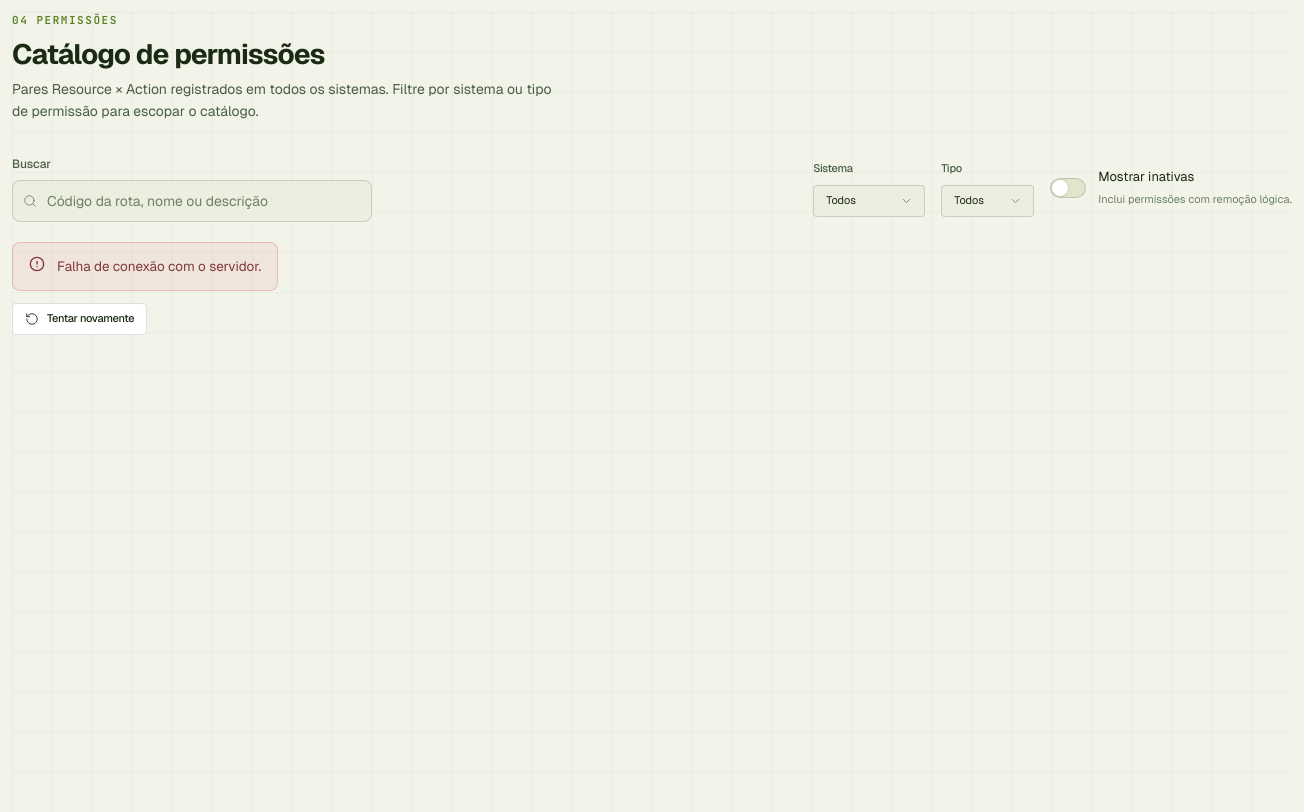
Test: PermissionsListShellPage — erro de rede › exibe Alert + botão retry; clicar dispara nova request
This screenshot has width=1304, height=812.
Expected: the text "Falha de conexão com o servidor." is shown, [57,256,261,277]
Click the button with test id "permissions-retry".
click(80, 319)  # box [12,303,147,335]
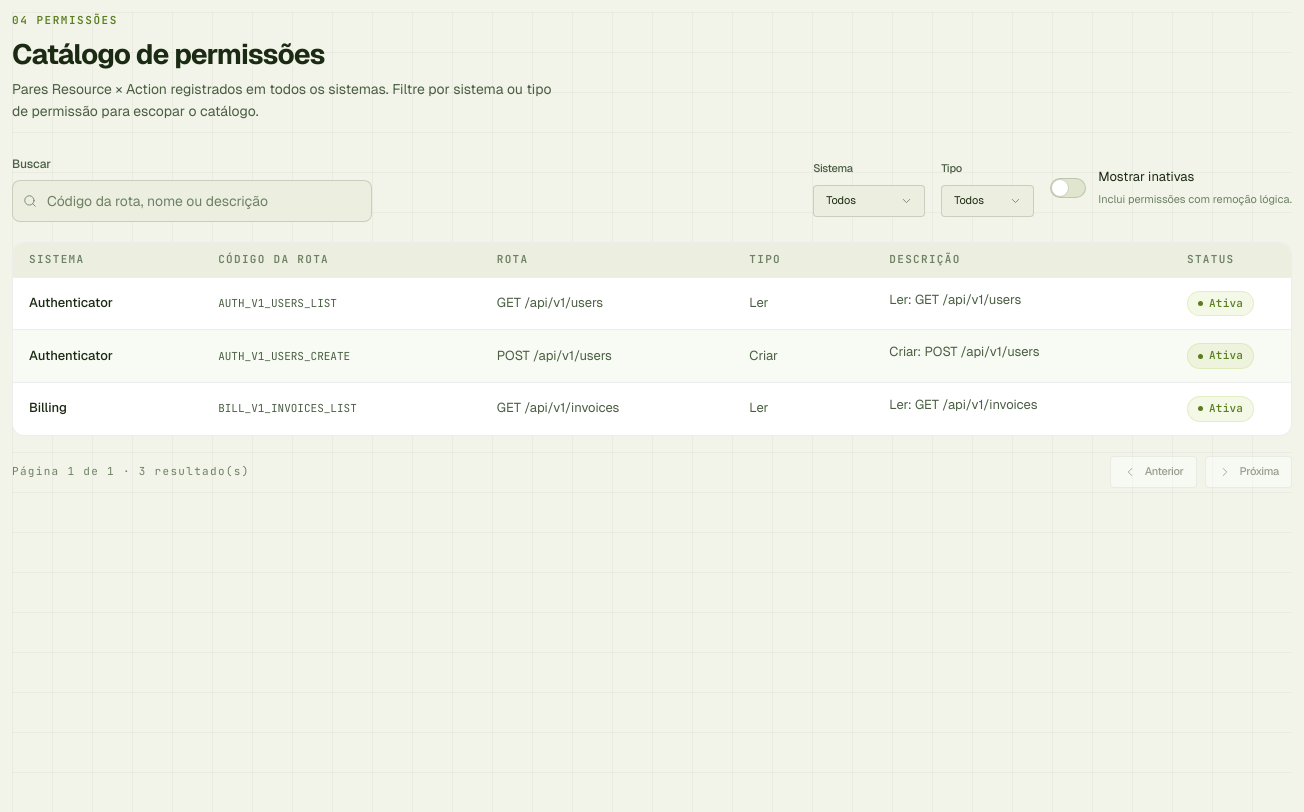
Result: the text "Falha de conexão" is gone
Result: the text "AUTH_V1_USERS_LIST" is shown at [218,296,337,310]
